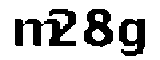2: (49, 8, 79, 51)
8: (85, 9, 114, 49)
g: (116, 16, 148, 60)
m: (9, 16, 60, 52)
